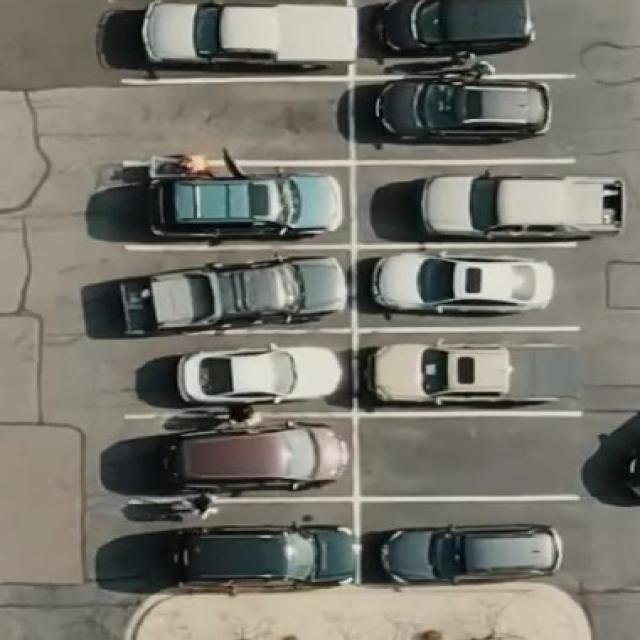space-empty: (116, 72, 352, 166), (355, 412, 586, 500)
space-occupied: (89, 496, 357, 594), (101, 240, 350, 336), (352, 157, 613, 245), (101, 412, 355, 500), (352, 323, 583, 413), (103, 332, 356, 413), (350, 68, 570, 161), (358, 497, 582, 588), (110, 1, 353, 80), (130, 159, 352, 245), (355, 242, 578, 326), (357, 0, 541, 65)
